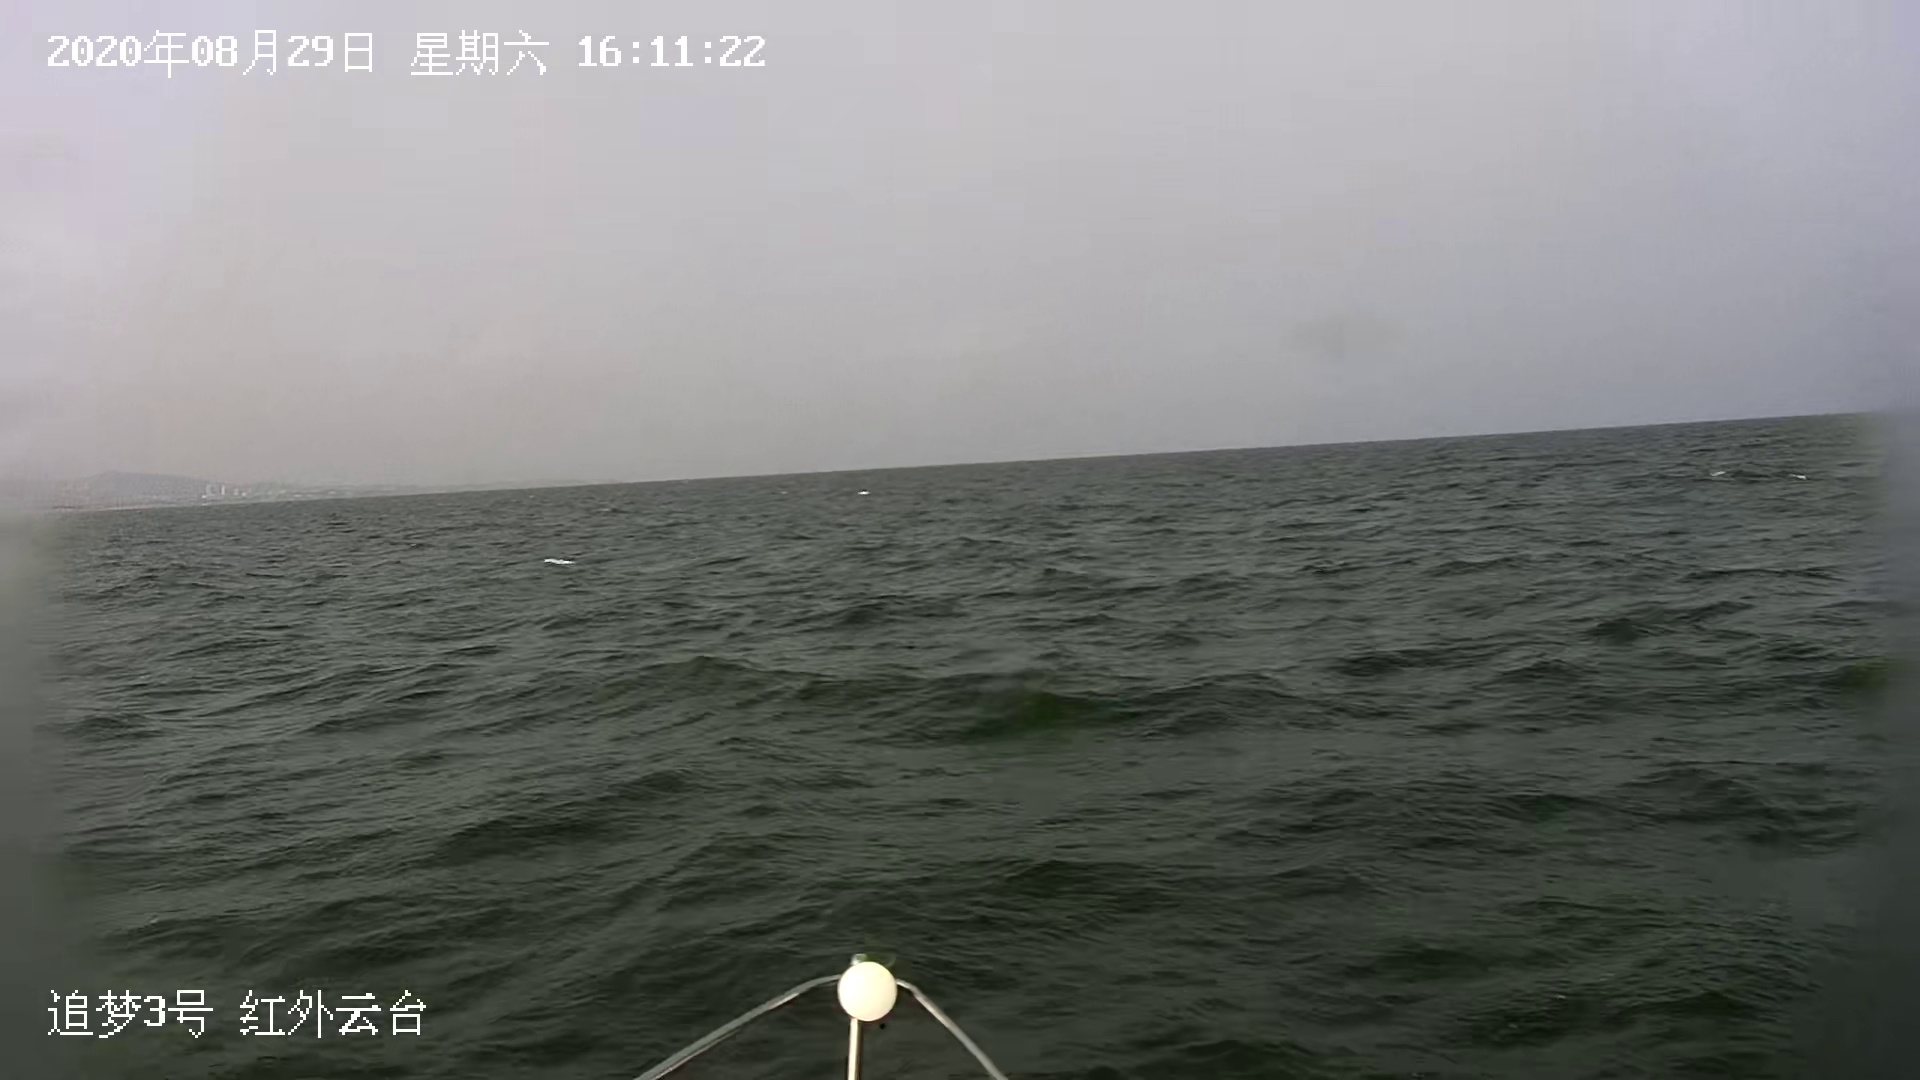coast: (15, 472, 448, 525)
